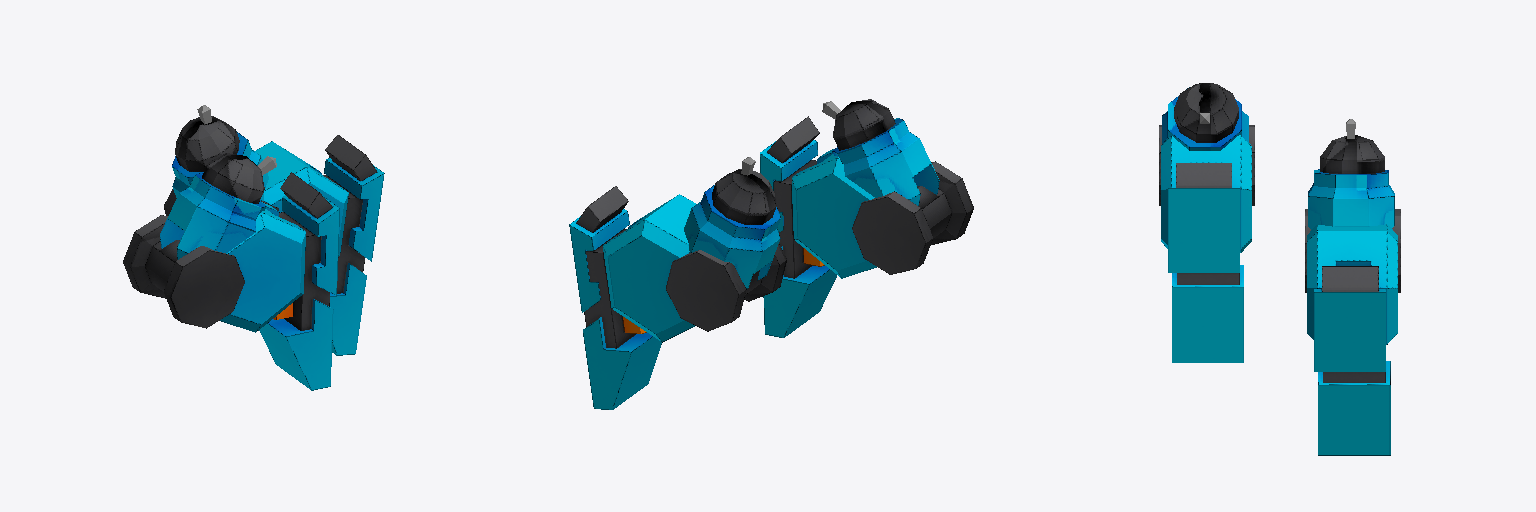
3 views of the same model, side by side, from view 1: azimuth 30°, elevation 25°; view 2: azimuth 150°, elevation 25°; view 3: azimuth 270°, elevation 25° (orthographic).
Parts seen in each view (by area): view 1: Object013, Object014, Object012, Object011, Object009, Object010; view 2: Object013, Object010, Object011, Object014, Object009, Object012; view 3: Object014, Object011, Object009, Object010, Object012, Object013.
Boxes of the visible parts, x1=… form: Object013: x1=123, y1=202, x2=305, y2=332; Object014: x1=259, y1=172, x2=339, y2=390; Object012: x1=160, y1=153, x2=266, y2=259; Object011: x1=323, y1=135, x2=384, y2=355; Object009: x1=172, y1=116, x2=268, y2=200; Object010: x1=164, y1=141, x2=348, y2=256; Object013: x1=792, y1=149, x2=973, y2=278; Object010: x1=603, y1=194, x2=786, y2=342; Object011: x1=569, y1=186, x2=661, y2=409; Object014: x1=760, y1=116, x2=836, y2=337; Object009: x1=684, y1=169, x2=780, y2=288; Object012: x1=832, y1=99, x2=939, y2=205; Object014: x1=1168, y1=163, x2=1243, y2=362; Object011: x1=1314, y1=266, x2=1390, y2=455; Object009: x1=1308, y1=135, x2=1394, y2=229; Object010: x1=1305, y1=209, x2=1400, y2=344; Object012: x1=1162, y1=83, x2=1248, y2=150; Object013: x1=1159, y1=125, x2=1254, y2=252.
Size of the model in its own units: 131 by 122 by 94.84.
1 materials, 1 textured.